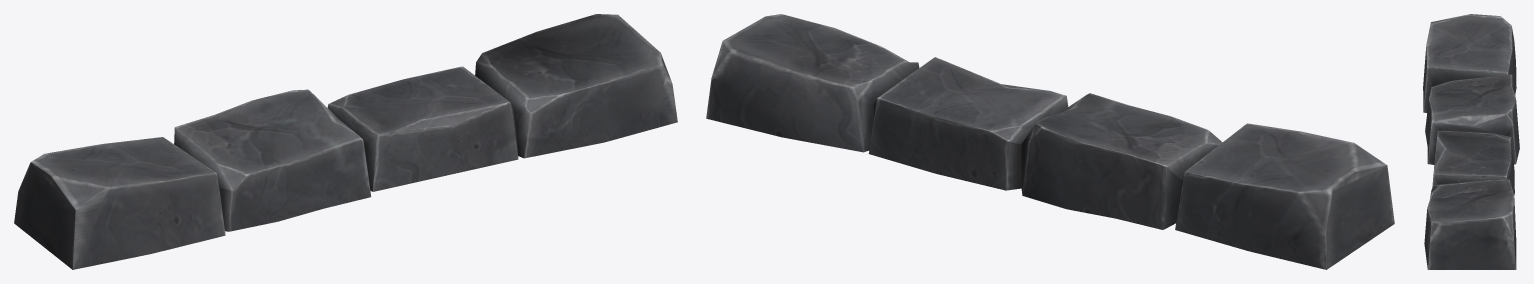
File: Pavement01.FBX
3 views of the same model, side by side, from view 1: azimuth 30°, elevation 25°; view 2: azimuth 150°, elevation 25°; view 3: azimuth 270°, elevation 25° (orthographic). The views are drawn at different scales.
Visible parts, largest first — view 1: Pavement01; view 2: Pavement01; view 3: Pavement01.
Part boxes in pixels (<box>): Pavement01: <box>14,14,677,269</box>; Pavement01: <box>706,14,1394,269</box>; Pavement01: <box>1423,14,1519,269</box>.
Size of the model in its own units: 4 by 0.7817 by 0.4539.
